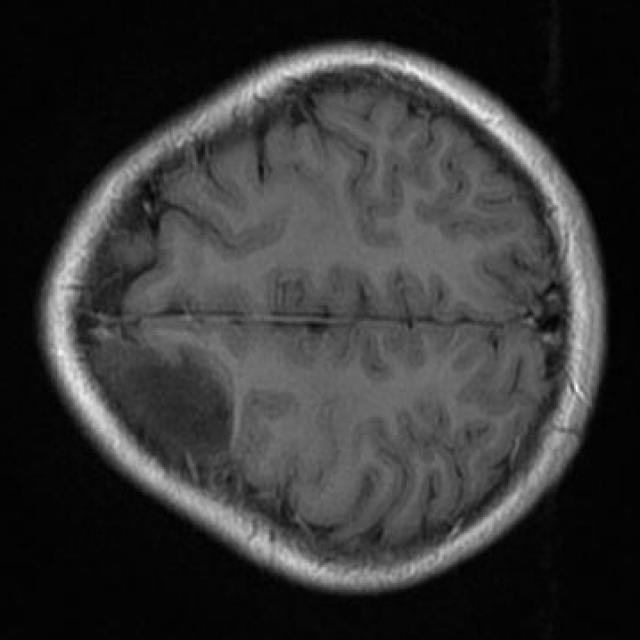glioma: (98, 344, 235, 464)
